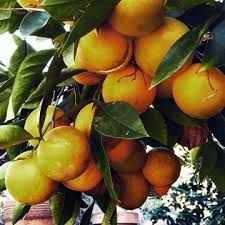orange: (132, 17, 194, 80), (35, 126, 92, 183), (170, 63, 224, 121), (5, 150, 59, 207), (75, 23, 133, 74), (102, 64, 156, 113), (20, 105, 71, 148), (74, 98, 118, 143), (144, 144, 182, 189)
